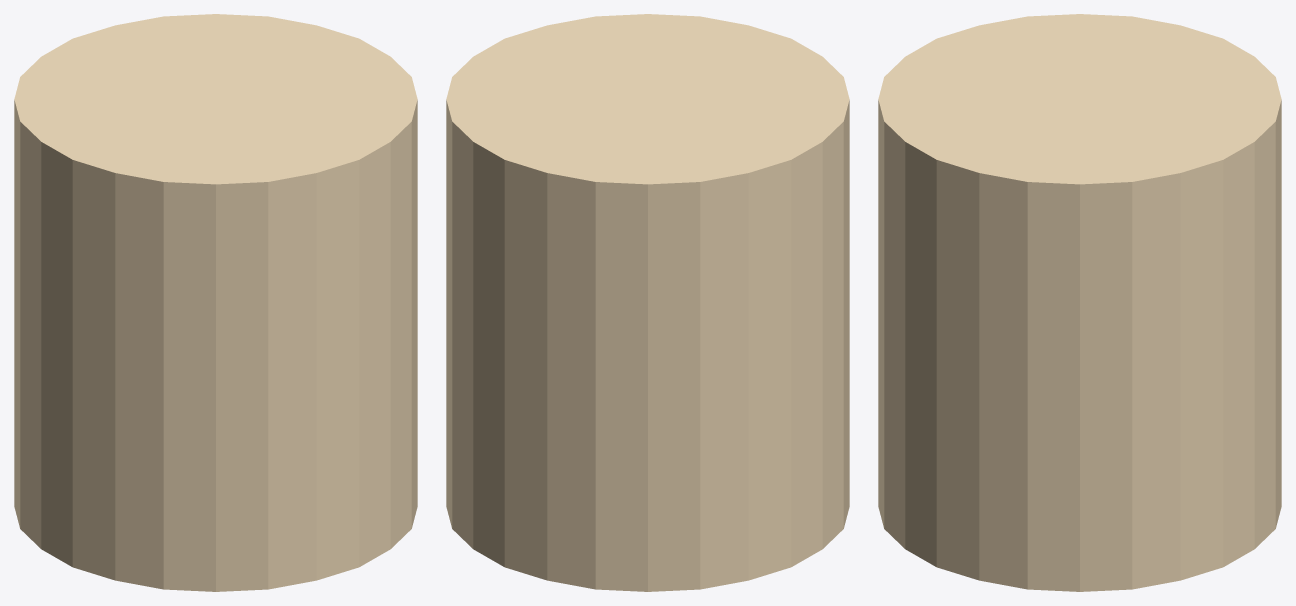
File: toys_wood block_cylinder.fbx
3 renders of one model, left to right at view 1: azimuth 30°, elevation 25°; view 2: azimuth 150°, elevation 25°; view 3: azimuth 270°, elevation 25°, orthographic.
Visible parts, largest first — view 1: Cylinder.001; view 2: Cylinder.001; view 3: Cylinder.001.
Boxes of the visible parts, x1=… form: Cylinder.001: x1=14, y1=14, x2=417, y2=591; Cylinder.001: x1=446, y1=14, x2=849, y2=591; Cylinder.001: x1=878, y1=14, x2=1281, y2=591.
Size of the model in its own units: 135 by 150 by 135.
